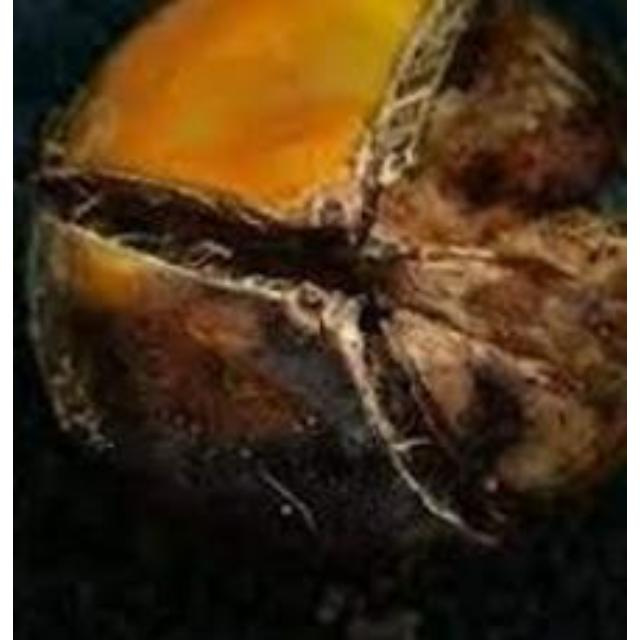damaged: (35, 0, 625, 576)
